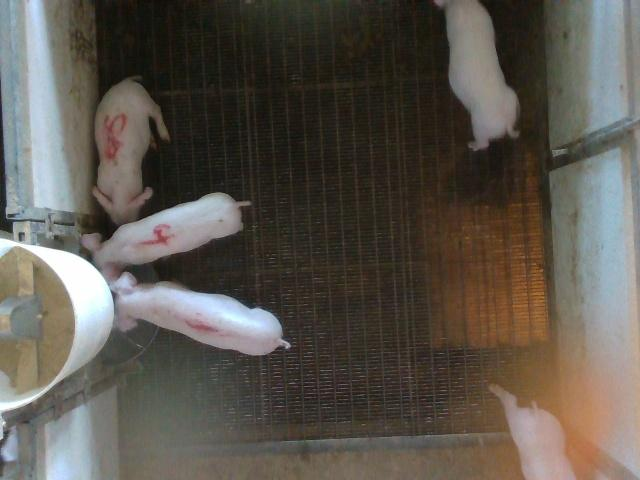pig-1: (110, 272, 290, 355)
pig-4: (84, 192, 249, 281)
pig-5: (92, 76, 170, 225)
